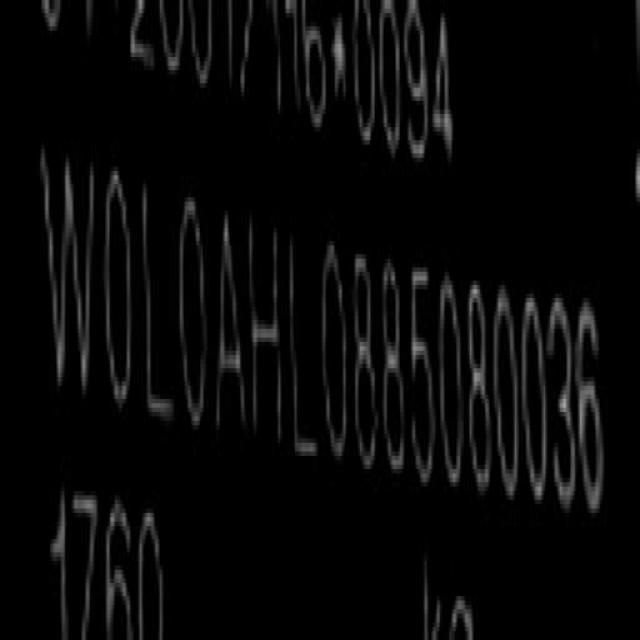0: (104, 160, 134, 421), (180, 196, 209, 440), (320, 243, 349, 470), (494, 284, 522, 503), (437, 270, 464, 493), (522, 292, 548, 512)
3: (548, 304, 577, 505)
5: (409, 260, 436, 488)
6: (576, 296, 605, 517)
8: (464, 276, 490, 497), (383, 255, 407, 482)
A: (214, 204, 245, 446)
B: (351, 247, 378, 472)
H: (249, 218, 285, 453)
L: (142, 178, 173, 434), (289, 234, 317, 468)
W: (37, 140, 101, 418)
